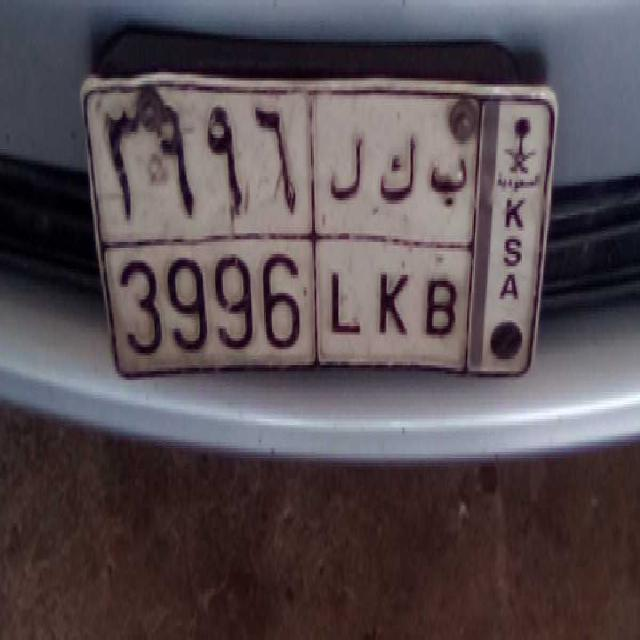license_plate: (103, 242, 473, 377)
